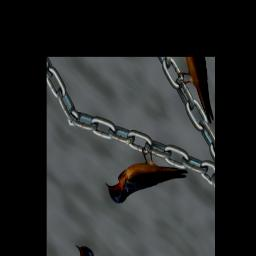Swallow: (101, 120, 190, 242)
